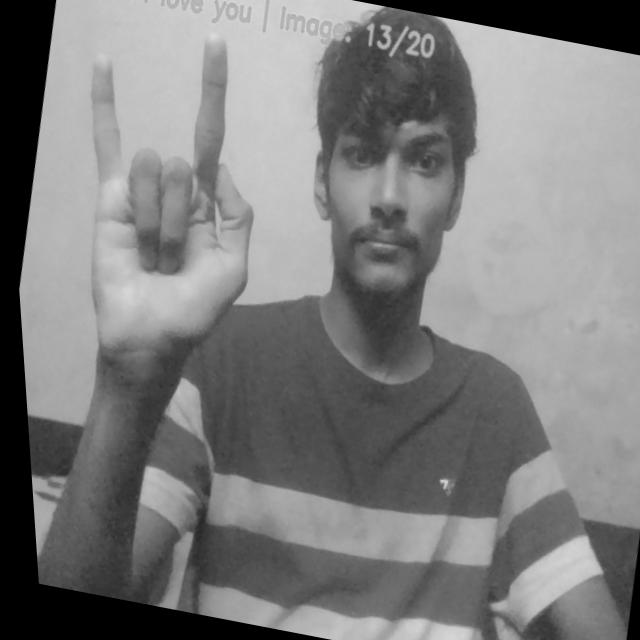I love you: (33, 0, 297, 388)
